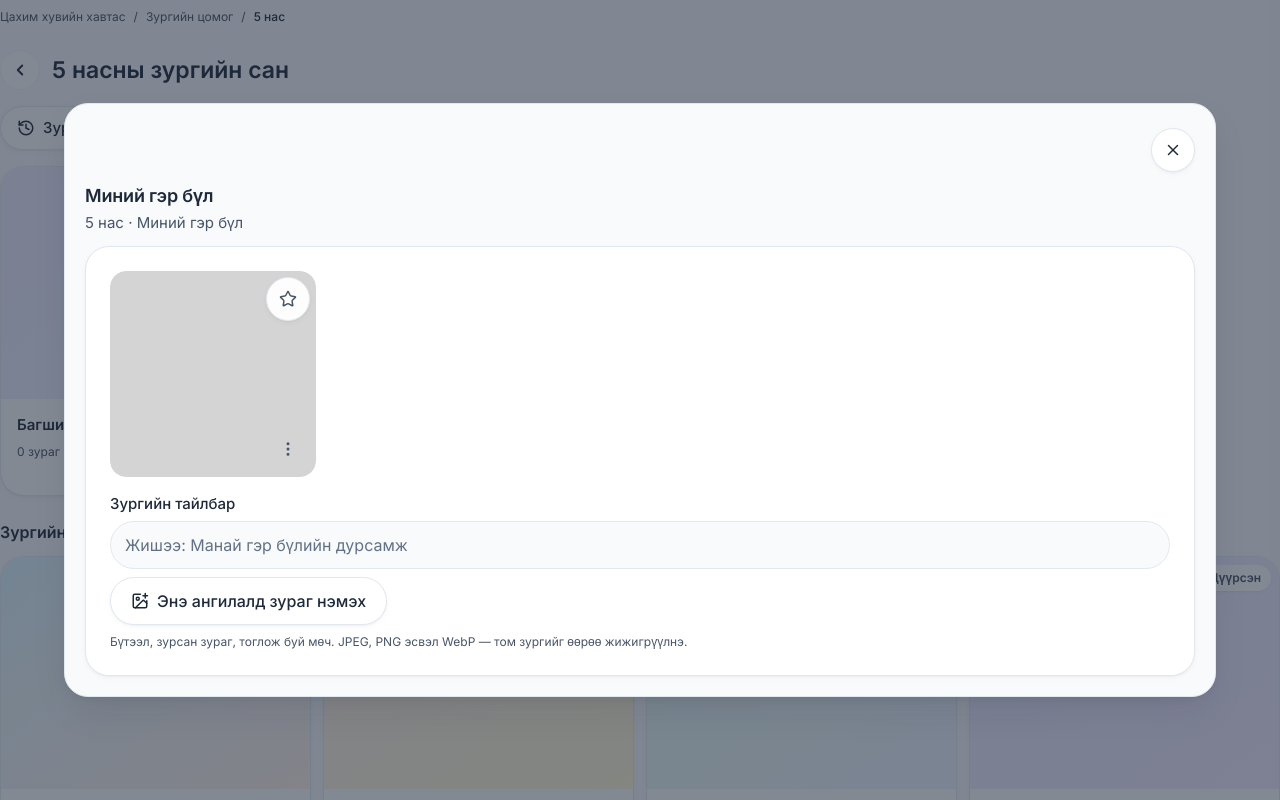
the per-photo menu › edits the caption of a photo the guardian uploaded
The image size is (1280, 800).
Click the button named "Манай гэр бүл үйлдэл" at (288, 449), box [266,427,310,471]
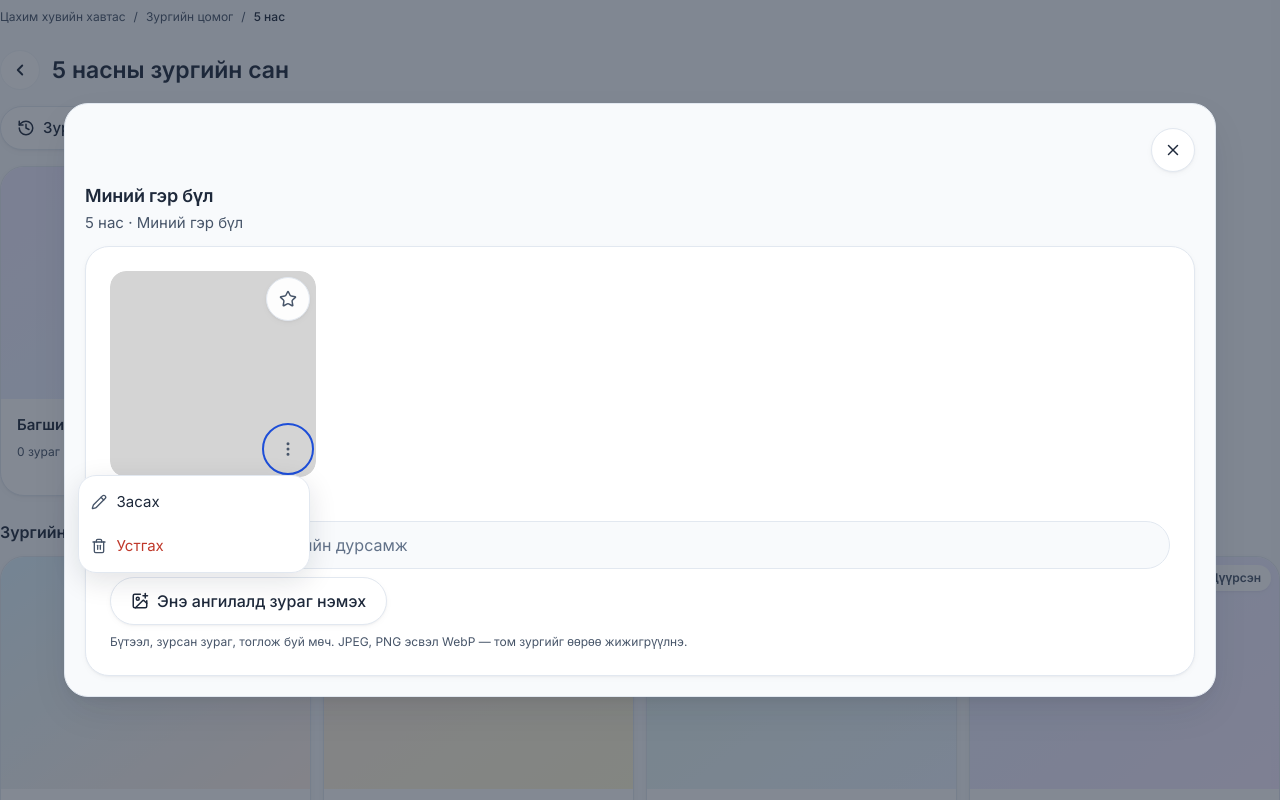
Click the menu item "Засах" at (194, 502), box [79,480,309,524]
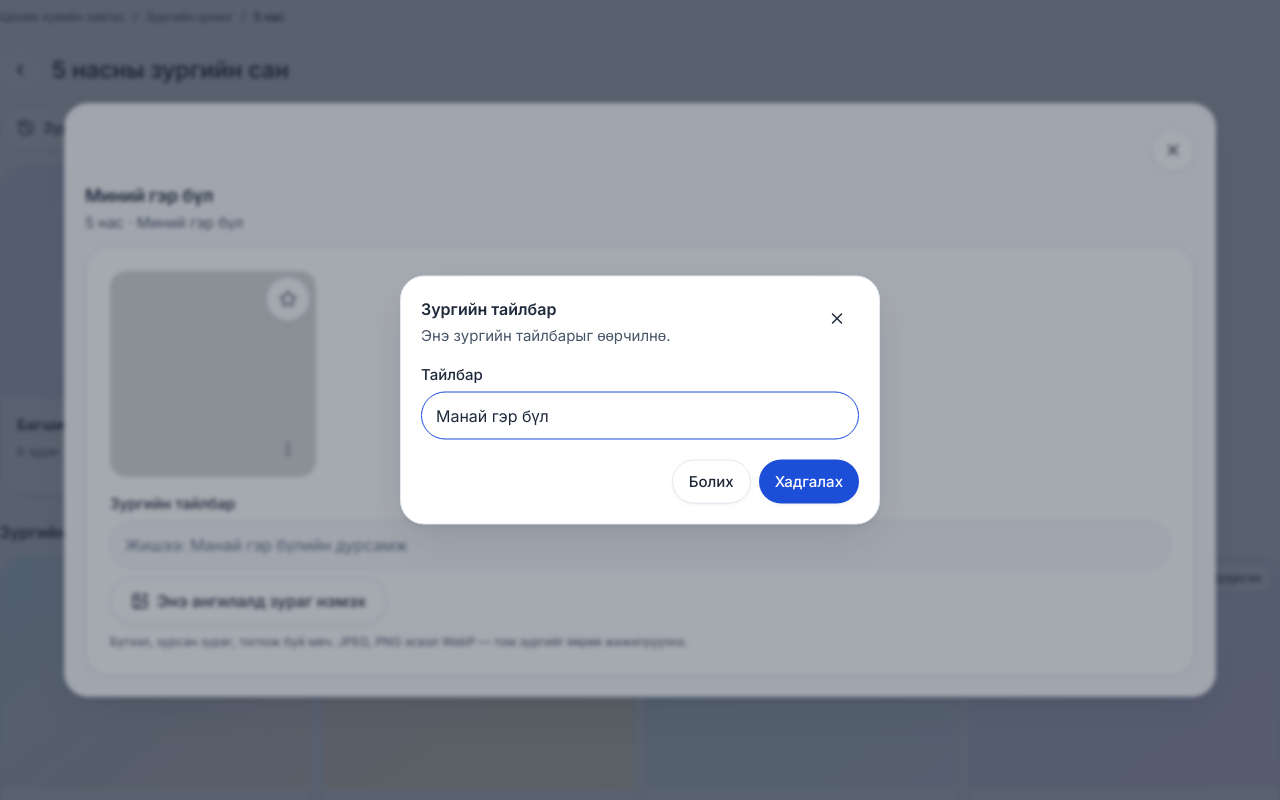
Expected: the field labelled "Тайлбар" holds "Манай гэр бүл"
Replace the text in the field labelled "Тайлбар" with "Шинэ тайлбар" at (640, 416), box [421,392,859,440]
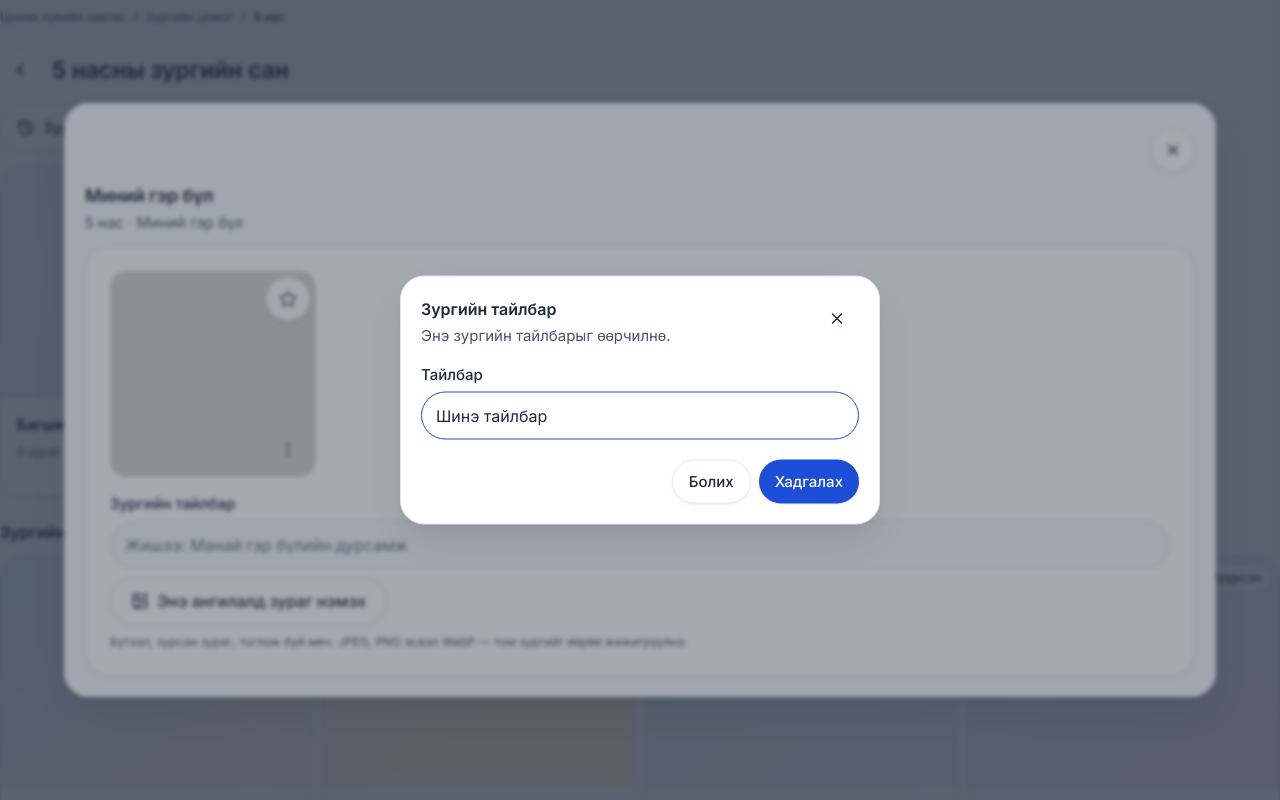
Click the button "Хадгалах" at (809, 482), box [759,460,859,504]
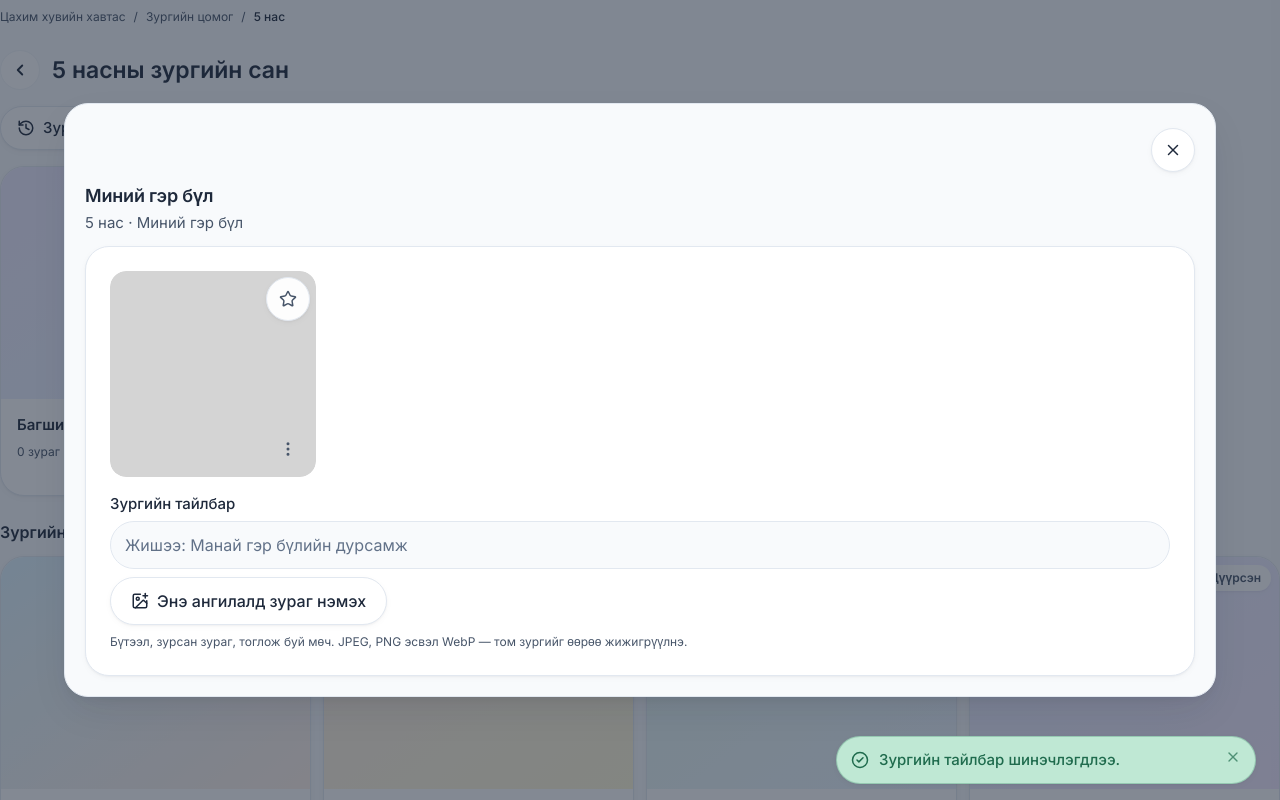
Expected: the text "Зургийн тайлбар шинэчлэгдлээ." is shown, [879,750,1120,768]
